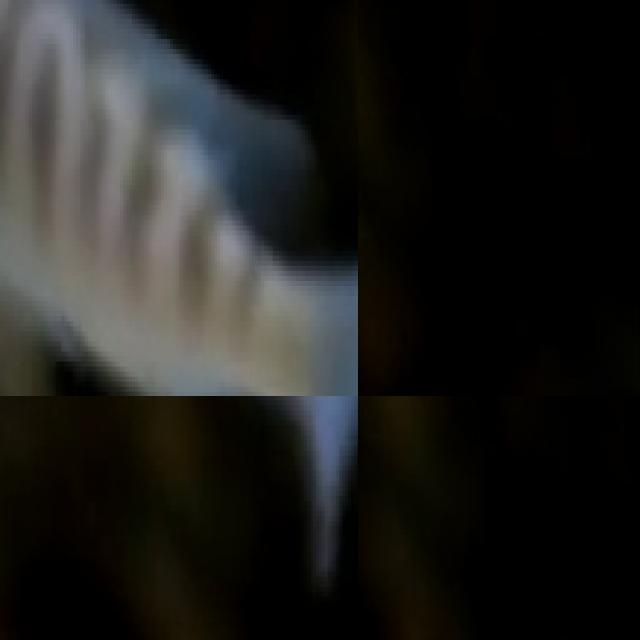fish: (0, 0, 358, 396), (0, 396, 358, 551)
